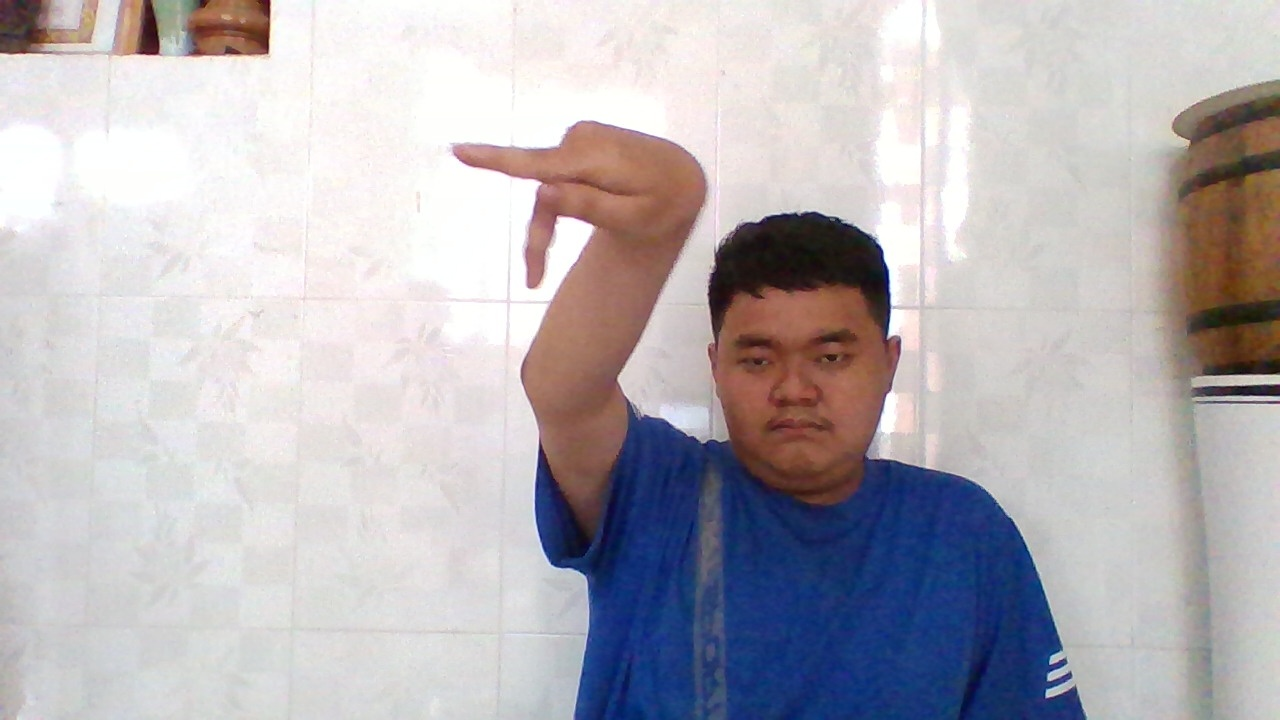P: (441, 111, 709, 272)
